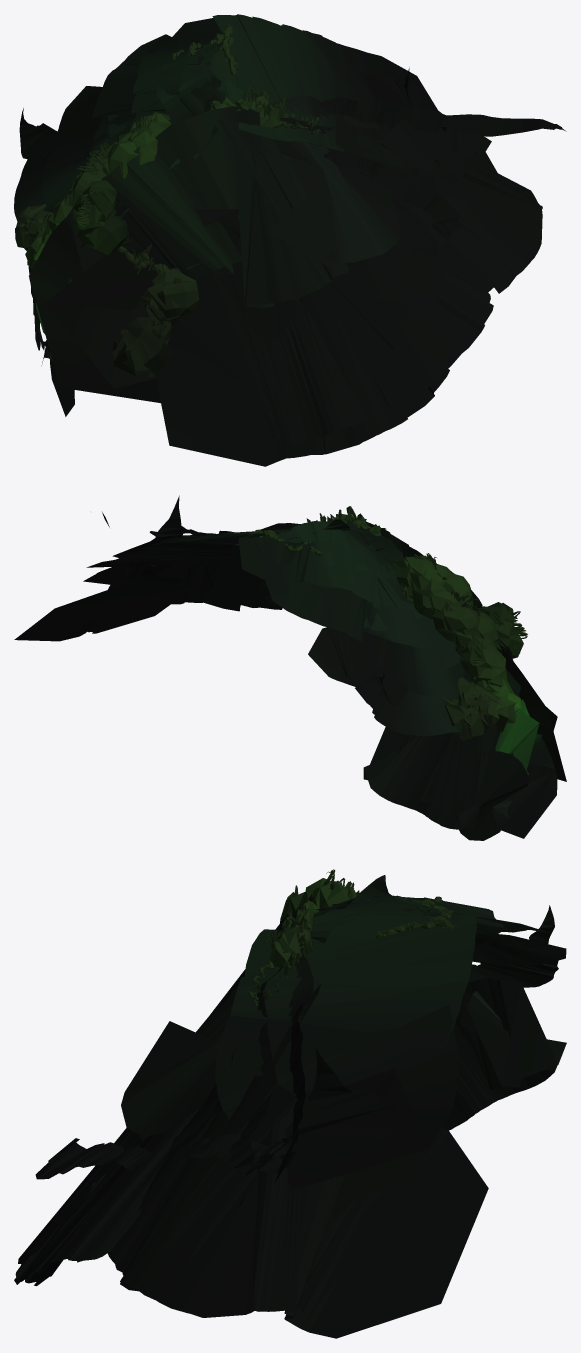
Rendered from Stone-1-L.fbx.
The picture shows the model from 3 angles, top to bottom: view 1: azimuth 30°, elevation 25°; view 2: azimuth 150°, elevation 25°; view 3: azimuth 270°, elevation 25°; orthographic projection. The views are drawn at different scales.
Visible parts, largest first — view 1: Stone-1; view 2: Stone-1; view 3: Stone-1.
Part boxes in pixels (<box>): Stone-1: <box>14,14,566,466</box>; Stone-1: <box>14,495,566,840</box>; Stone-1: <box>14,869,566,1338</box>.
Bounding box in the file's own units: 0.3148 × 0.1913 × 0.2317.
